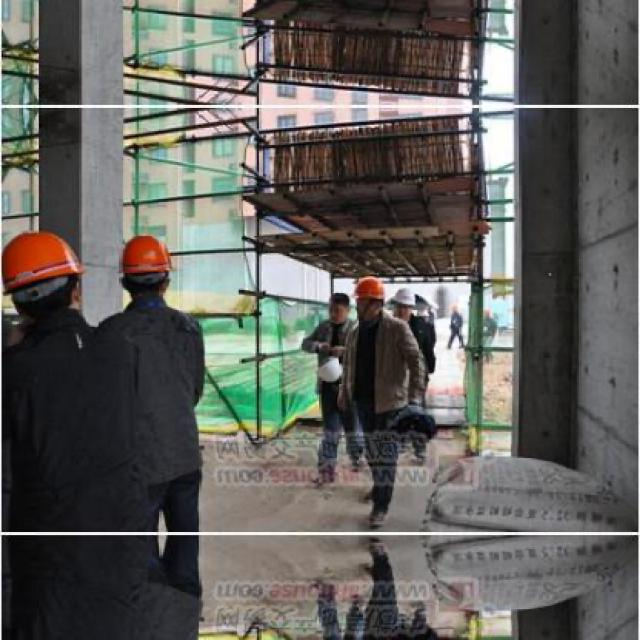con casco: (0, 214, 105, 354), (104, 222, 207, 314), (344, 276, 414, 327)
